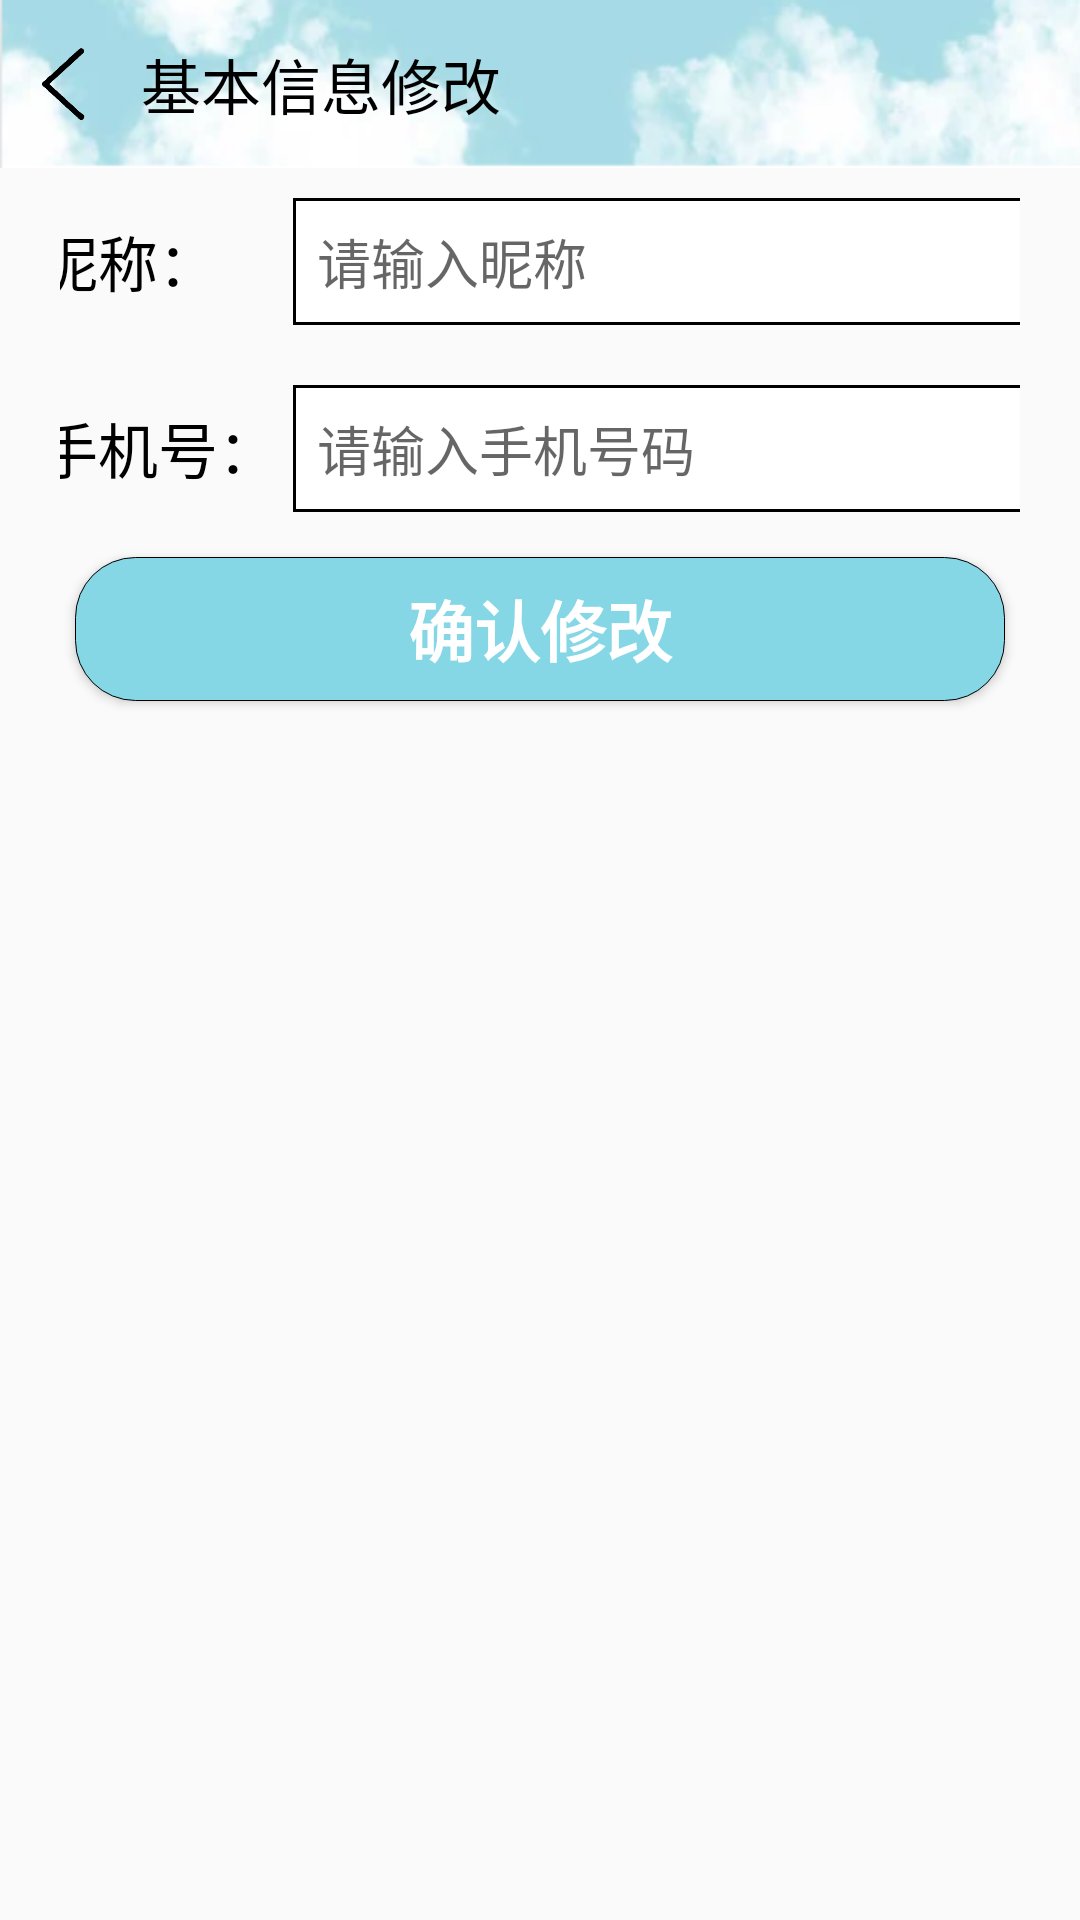

Icons on this 1080x1920 Android screen, each with the point to tap as (x,y):
return: (63,84)
